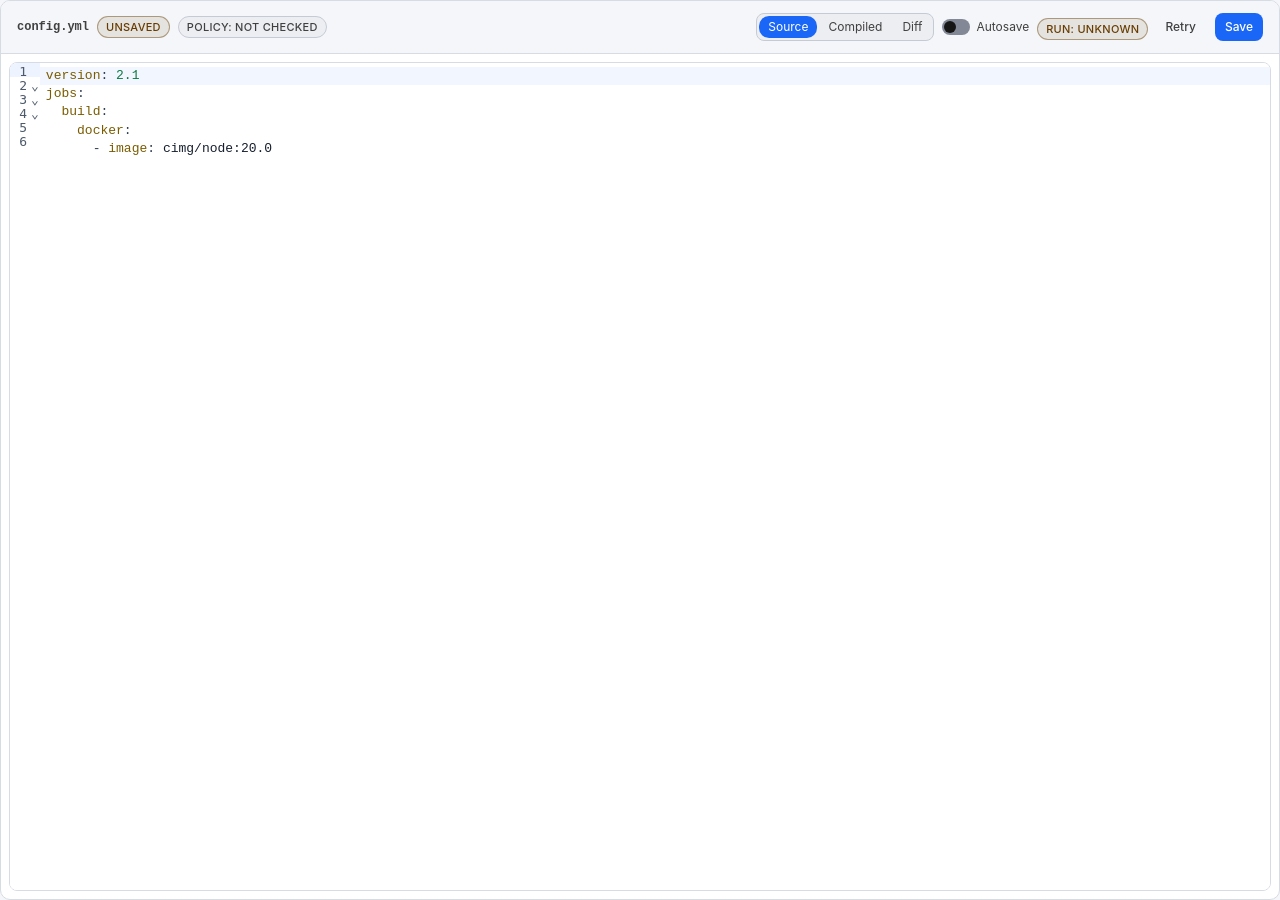
YamlPane › the Diff view › renders a real unified diff -- unchanged lines, and only the changed one marked -- against what is on disk, not the last save dialog or AI approval
Click the button "Diff". click: click(912, 27)
box: x1=893 y1=16 x2=931 y2=38
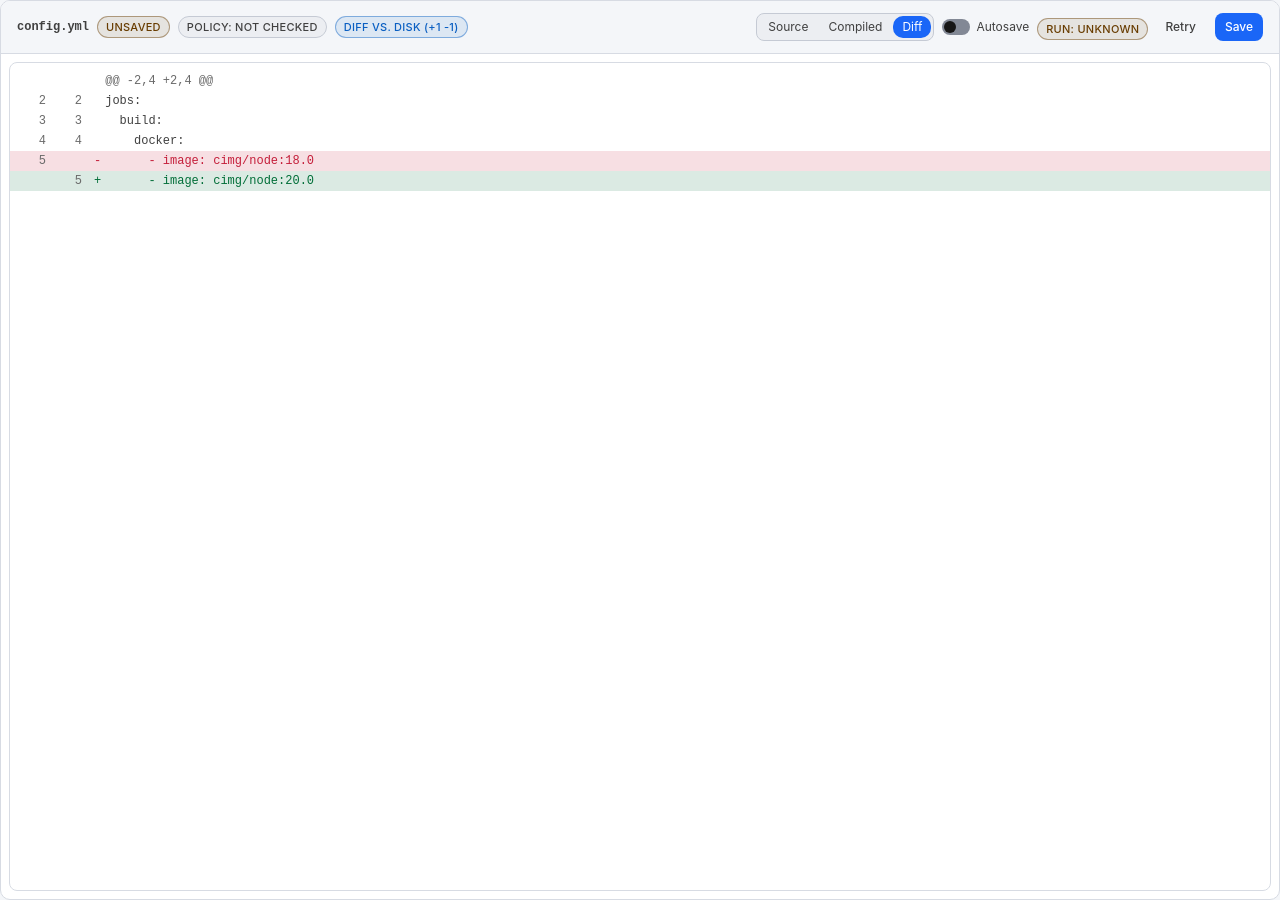
Expected: the text "- image: cimg/node:20.0" is shown, x1=105 y1=171 x2=314 y2=191
Now the text "Diff vs. disk (+1 -1)" is shown, box x1=335 y1=16 x2=468 y2=38
Now the text "- image: cimg/node:18.0" is shown, box x1=105 y1=151 x2=314 y2=171
